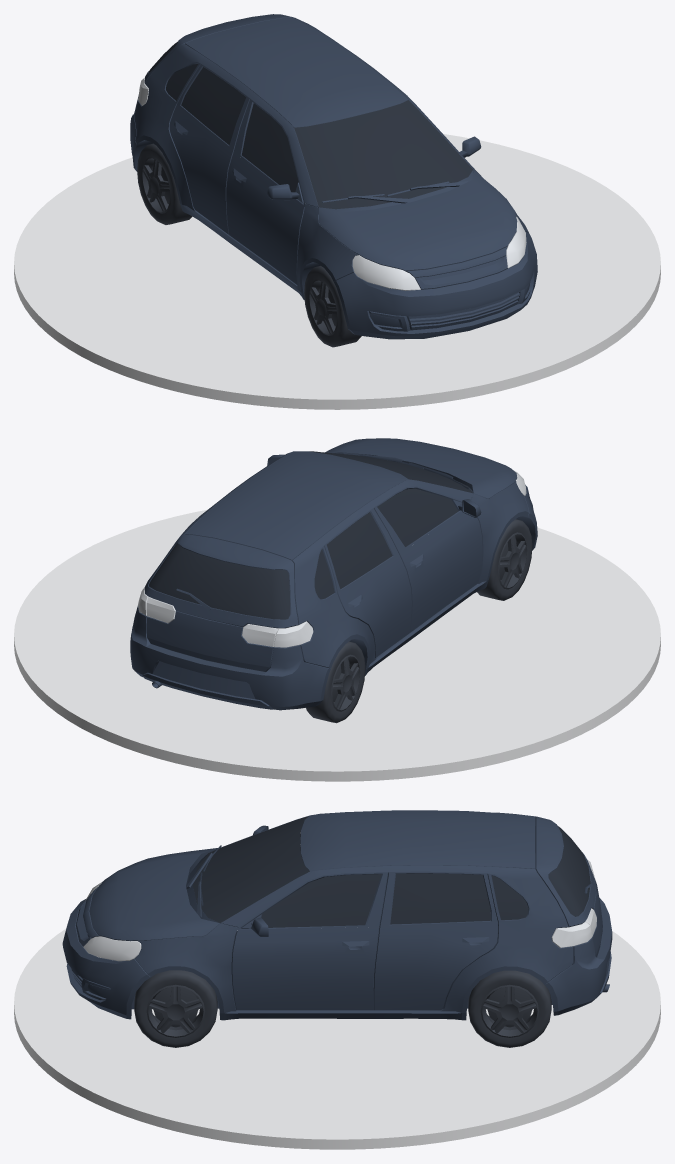
The model's file is hatchback.glb.
The picture shows the model from 3 angles, top to bottom: view 1: azimuth 30°, elevation 25°; view 2: azimuth 150°, elevation 25°; view 3: azimuth 270°, elevation 25°; orthographic projection.
Parts seen in each view (by area): view 1: turntable, Hatchback Body_Body_0, Hatchback Body_Glass_0, Wheel_B002_Wheek_0, Wheel_B003_Wheek_0, Hatchback Body_Optics_0; view 2: turntable, Hatchback Body_Body_0, Hatchback Body_Glass_0, Wheel_B003_Wheek_0, Wheel_B002_Wheek_0, Hatchback Body_Optics_0; view 3: turntable, Hatchback Body_Body_0, Hatchback Body_Glass_0, Wheel_B_Wheek_0, Wheel_B001_Wheek_0, Hatchback Body_Optics_0.
Part boxes in pixels (x1,y1,x2,y2): turntable: (14,134,660,409); Hatchback Body_Body_0: (130,14,537,339); Hatchback Body_Glass_0: (149,41,472,209); Wheel_B002_Wheek_0: (304,265,361,347); Wheel_B003_Wheek_0: (137,143,192,224); Hatchback Body_Optics_0: (138,77,526,290); turntable: (14,509,660,781); Hatchback Body_Body_0: (130,438,537,710); Hatchback Body_Glass_0: (149,451,472,619); Wheel_B003_Wheek_0: (306,641,365,723); Wheel_B002_Wheek_0: (477,519,532,600); Hatchback Body_Optics_0: (138,470,526,647); turntable: (14,929,660,1149); Hatchback Body_Body_0: (62,810,612,1020); Hatchback Body_Glass_0: (193,816,590,927); Wheel_B_Wheek_0: (134,970,217,1047); Wheel_B001_Wheek_0: (468,970,551,1047); Hatchback Body_Optics_0: (83,859,596,961).
Bounding box in the file's own units: 4.66 × 1.43 × 4.66.
